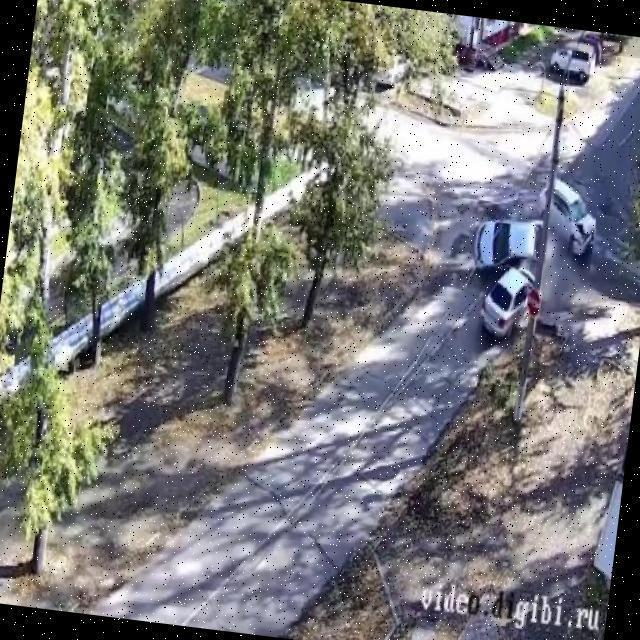accident: (479, 220, 554, 320)
